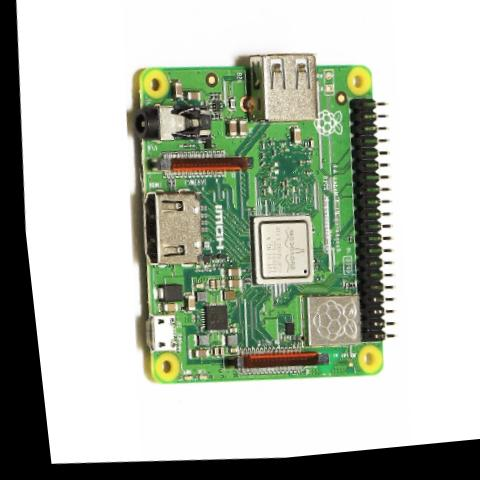Raspberry-Pi-3-Model-A-: (99, 35, 417, 409)
